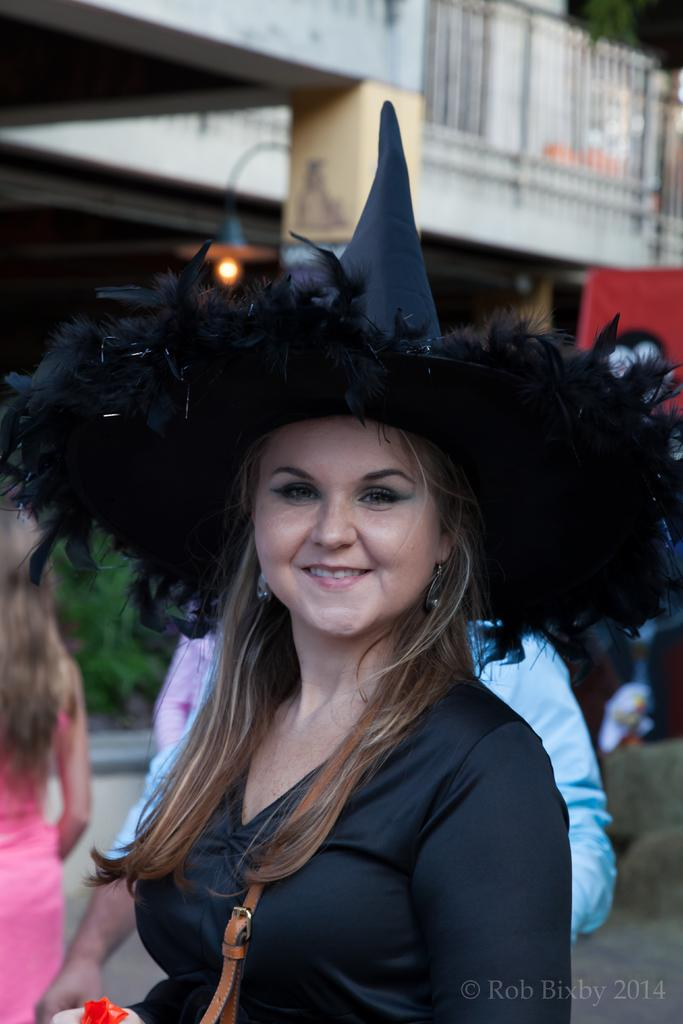Hat: (0, 97, 682, 676)
